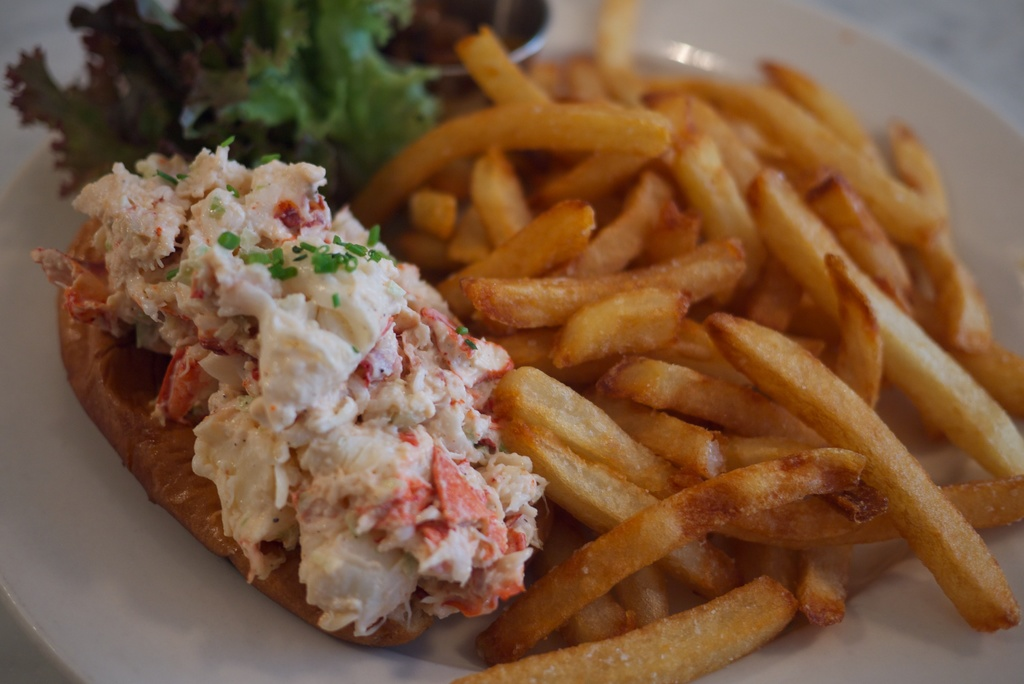French fries: (330, 3, 1017, 682)
